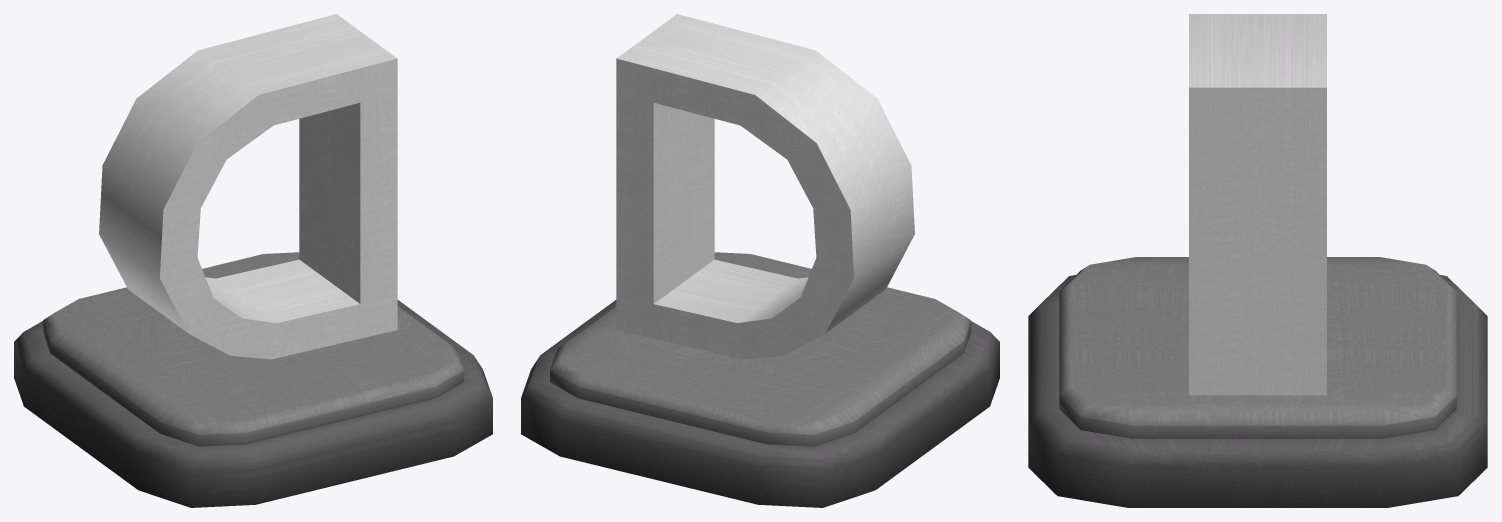
Rendered from Statue Letter D Hand.fbx.
The picture shows the model from 3 angles, left to right: view 1: azimuth 30°, elevation 25°; view 2: azimuth 150°, elevation 25°; view 3: azimuth 270°, elevation 25°; orthographic projection. The views are drawn at different scales.
Visible parts, largest first — view 1: Letter, StatueBase (1); view 2: Letter, StatueBase (1); view 3: StatueBase (1), Letter.
Boxes of the visible parts, x1,y1,x2,y2 form: Letter: (99,14,397,359); StatueBase (1): (14,252,492,507); Letter: (616,14,914,359); StatueBase (1): (521,252,999,507); StatueBase (1): (1028,257,1487,507); Letter: (1189,14,1326,395).
Bounding box in the file's own units: 0.9118 × 0.8657 × 0.9299.
